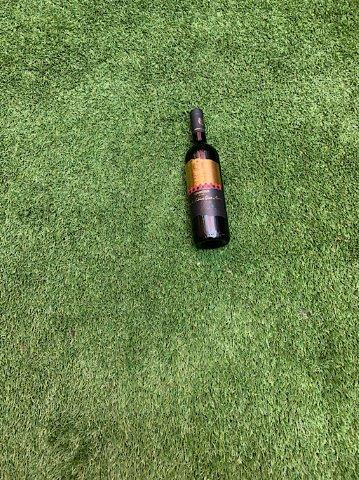botolkaca: (186, 109, 230, 249)
